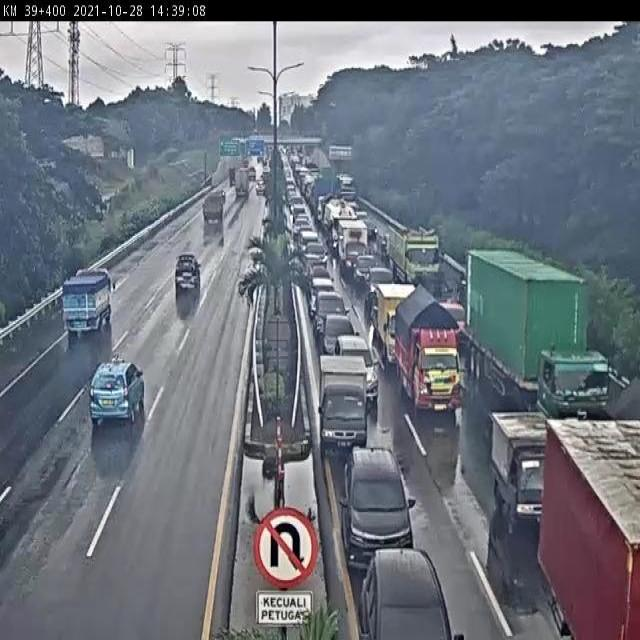big truck: (482, 268, 625, 428)
car: (322, 429, 428, 568), (346, 520, 462, 637), (73, 328, 162, 455), (488, 387, 558, 529), (326, 380, 374, 453), (167, 239, 202, 308), (322, 311, 357, 358), (316, 289, 347, 336), (365, 263, 393, 308), (352, 249, 377, 280)
small truck: (392, 293, 481, 431), (313, 348, 380, 461), (53, 261, 119, 348)
